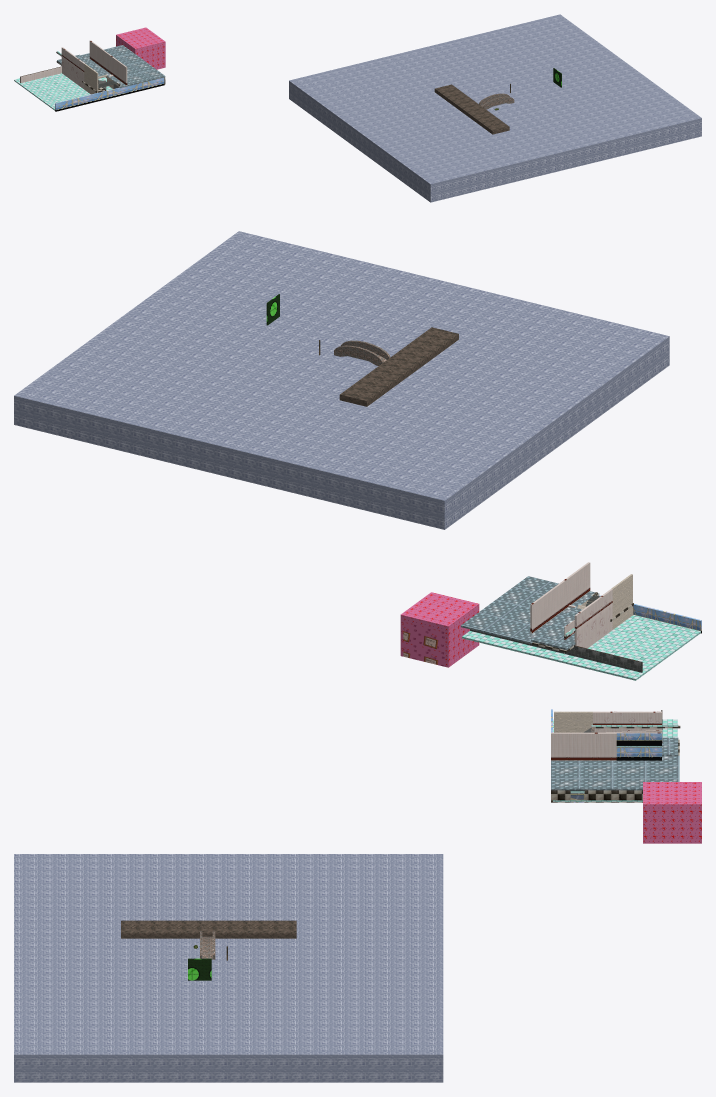
The model's file is AsyAct1_brush.glb.
3 renders of one model, top to bottom at view 1: azimuth 30°, elevation 25°; view 2: azimuth 150°, elevation 25°; view 3: azimuth 270°, elevation 25°, orthographic. The views are drawn at different scales.
Parts seen in each view (by area): view 1: AsyAct1; view 2: AsyAct1; view 3: AsyAct1.
Boxes of the visible parts, <box> form: AsyAct1: <box>14,14,701,202</box>; AsyAct1: <box>14,231,701,680</box>; AsyAct1: <box>14,709,701,1082</box>.
Bounding box in the file's own units: 6847 × 612 × 5740.
Materials: 32 (32 with a texture image).
